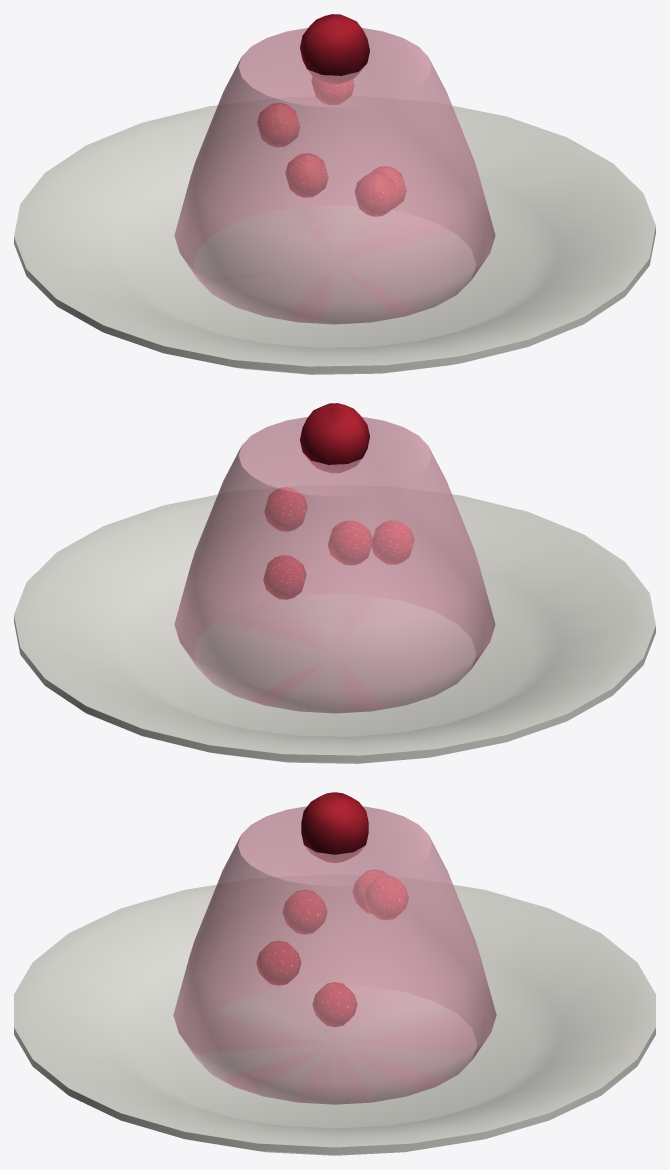
Rendered from dessert_jelly_mould.glb.
The picture shows the model from 3 angles, top to bottom: view 1: azimuth 30°, elevation 25°; view 2: azimuth 150°, elevation 25°; view 3: azimuth 270°, elevation 25°; orthographic projection.
Visible parts, largest first — view 1: dessert_jelly_mould; view 2: dessert_jelly_mould; view 3: dessert_jelly_mould.
Boxes of the visible parts, x1,y1,x2,y2 form: dessert_jelly_mould: (14,14,655,374); dessert_jelly_mould: (14,403,655,763); dessert_jelly_mould: (14,792,655,1155).
Bounding box in the file's own units: 0.2 × 0.093 × 0.1985.
4 materials, 2 textured.
